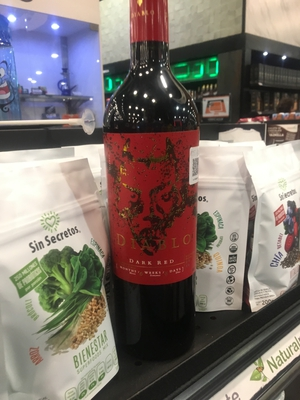diablo dark red: (101, 14, 204, 363)
